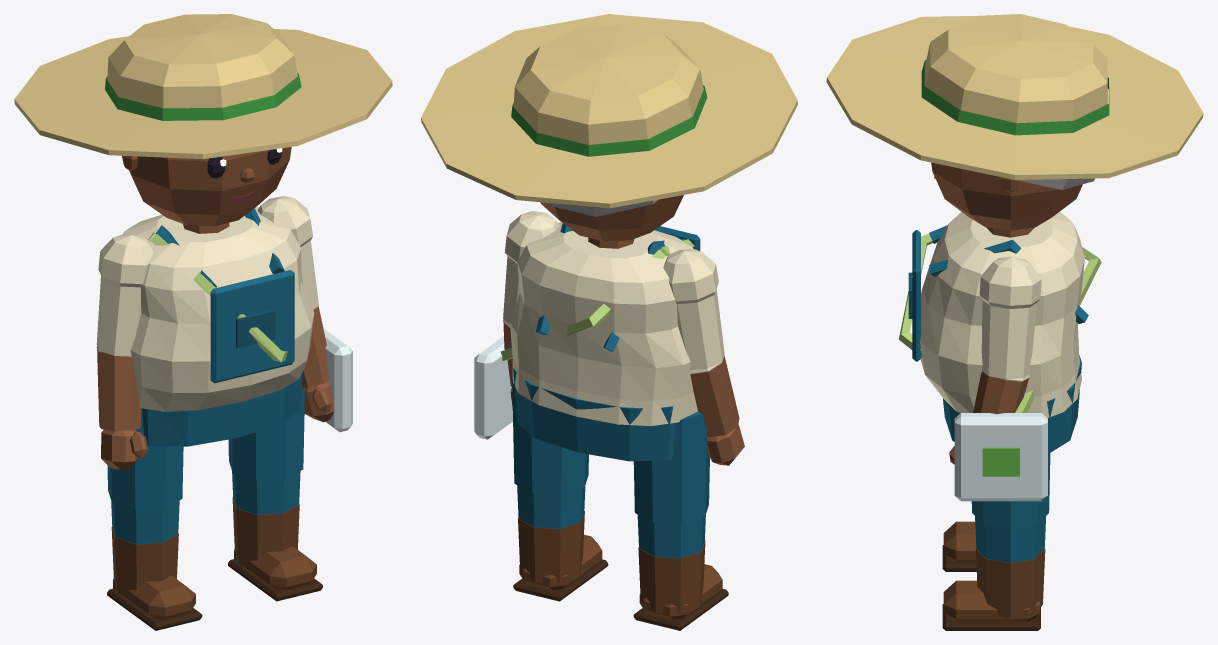
Rendered from ver-k2.glb.
The picture shows the model from 3 angles, left to right: view 1: azimuth 30°, elevation 25°; view 2: azimuth 150°, elevation 25°; view 3: azimuth 270°, elevation 25°; orthographic projection.
Visible parts, largest first — view 1: kopfbedeckung, torso, kopf, latz, arm_r, bein_r, bein_l, schuh_l, schuh_r, becken, arm_l, accessoire_tote (+3 smaller); view 2: kopfbedeckung, torso, bein_r, arm_r, becken, bein_l, schuh_l, schuh_r, accessoire_tote, kopf, arm_l, latz (+2 smaller); view 3: kopfbedeckung, torso, accessoire_tote, arm_l, schuh_l, kopf, bein_l, latz, schuh_r, becken, haare.
Boxes of the visible parts, x1=… form: kopfbedeckung: x1=14, y1=14, x2=392, y2=159; torso: x1=123, y1=207, x2=314, y2=411; kopf: x1=122, y1=147, x2=291, y2=226; latz: x1=156, y1=208, x2=294, y2=383; arm_r: x1=96, y1=234, x2=153, y2=430; bein_r: x1=107, y1=408, x2=183, y2=544; bein_l: x1=228, y1=385, x2=304, y2=514; schuh_l: x1=228, y1=497, x2=322, y2=601; schuh_r: x1=107, y1=526, x2=202, y2=630; becken: x1=142, y1=372, x2=302, y2=446; arm_l: x1=257, y1=196, x2=329, y2=387; accessoire_tote: x1=148, y1=232, x2=352, y2=432; kopfbedeckung: x1=421, y1=14, x2=797, y2=208; torso: x1=510, y1=222, x2=697, y2=425; bein_r: x1=633, y1=411, x2=709, y2=558; arm_r: x1=663, y1=249, x2=739, y2=437; becken: x1=513, y1=368, x2=675, y2=461; bein_l: x1=512, y1=377, x2=588, y2=528; schuh_l: x1=513, y1=511, x2=608, y2=601; schuh_r: x1=633, y1=540, x2=728, y2=630; accessoire_tote: x1=474, y1=239, x2=694, y2=439; kopf: x1=540, y1=195, x2=683, y2=241; arm_l: x1=503, y1=211, x2=559, y2=386; latz: x1=535, y1=223, x2=700, y2=351; kopfbedeckung: x1=826, y1=14, x2=1203, y2=179; torso: x1=920, y1=211, x2=1084, y2=417; accessoire_tote: x1=899, y1=233, x2=1101, y2=501; arm_l: x1=973, y1=257, x2=1041, y2=414; schuh_l: x1=942, y1=548, x2=1045, y2=630; kopf: x1=931, y1=162, x2=1082, y2=230; bein_l: x1=971, y1=453, x2=1050, y2=562; latz: x1=908, y1=225, x2=1088, y2=361; schuh_r: x1=942, y1=521, x2=976, y2=571; becken: x1=943, y1=355, x2=1081, y2=453; haare: x1=1016, y1=178, x2=1094, y2=189.
Bounding box in the file's own units: 0.0145 × 0.0232 × 0.0144.
